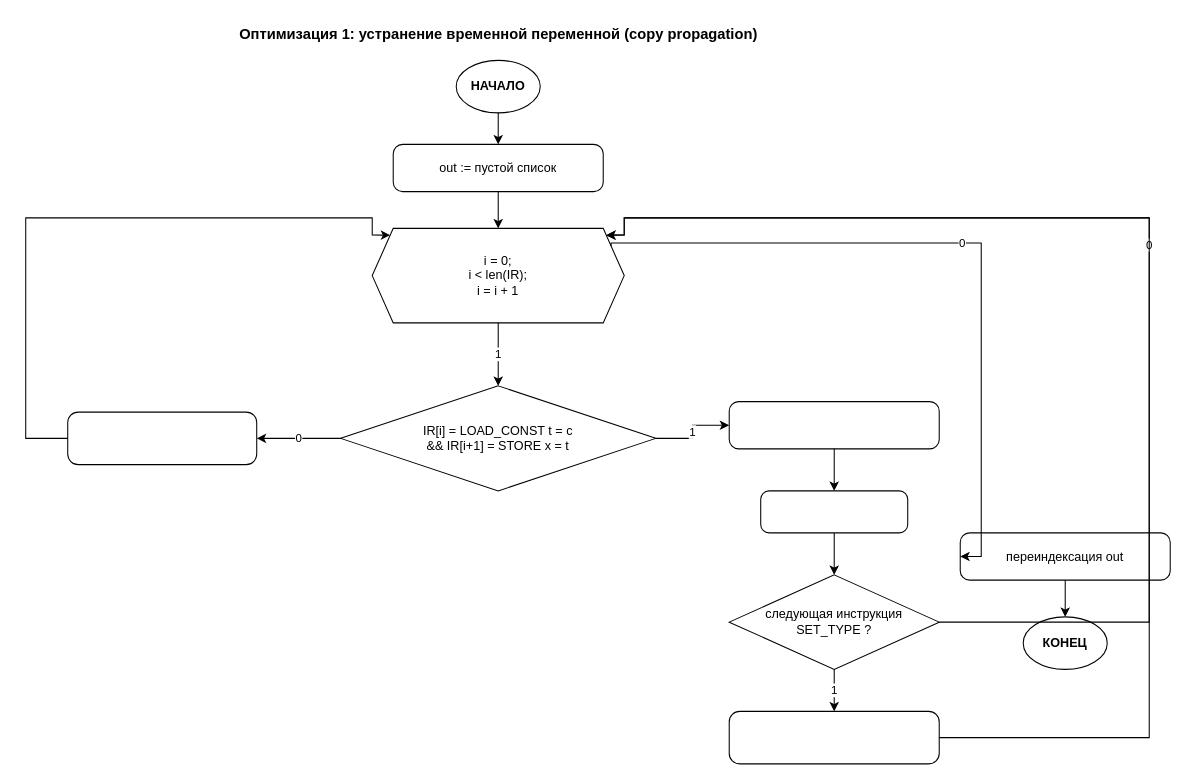
The diagram is 1189 pixels wide and 782 high, and some of its shapes have lost their labels. Here are the shapes that lost their labels. From the top down, the centre of each, then its label:
At pixel 162 438: "out += IR[i] i := i + 1".
At pixel 833 425: "out += STORE x = c".
At pixel 834 511: "i := i + 2".
At pixel 833 737: "out += SET_TYPE i := i + 1".
